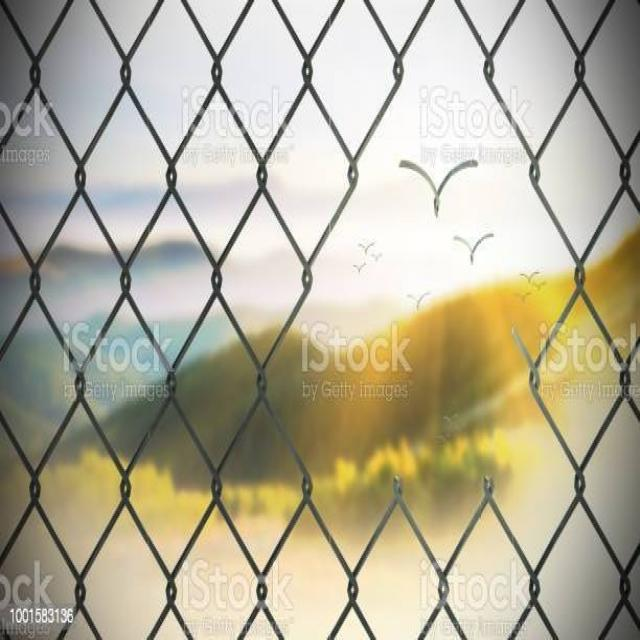fence line: (309, 50, 562, 512)
